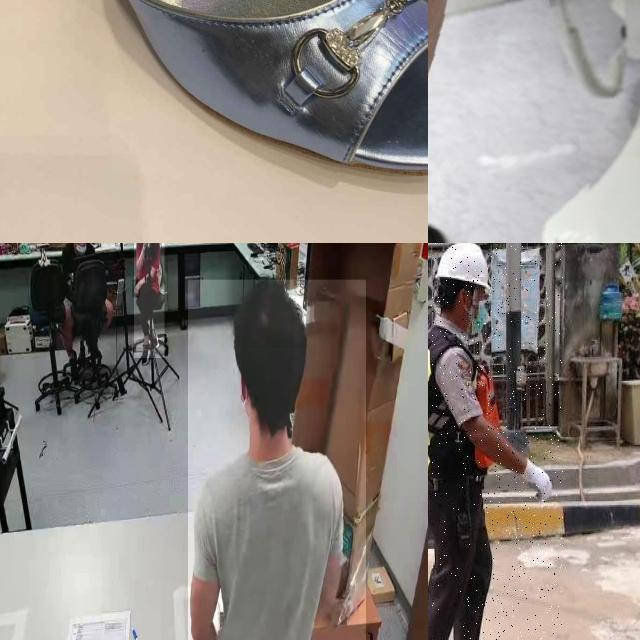Barefoots: (428, 0, 604, 243)
Sandals: (0, 0, 428, 184)
hand_noglove: (132, 280, 140, 298)
head_helmet: (436, 243, 495, 296)
head_nohelmet: (232, 280, 308, 348)
person: (187, 279, 366, 640), (428, 243, 563, 640), (53, 243, 116, 375), (134, 243, 165, 359)
shoes: (148, 326, 161, 352), (140, 340, 150, 369)
vest: (428, 329, 505, 473)
